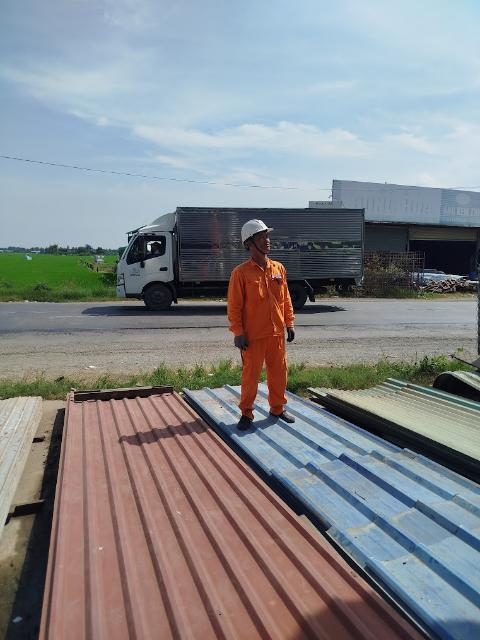gloves: (228, 331, 256, 351), (285, 314, 300, 345)
helmet: (234, 215, 276, 243)
shoes: (273, 403, 300, 428), (235, 411, 255, 435)
